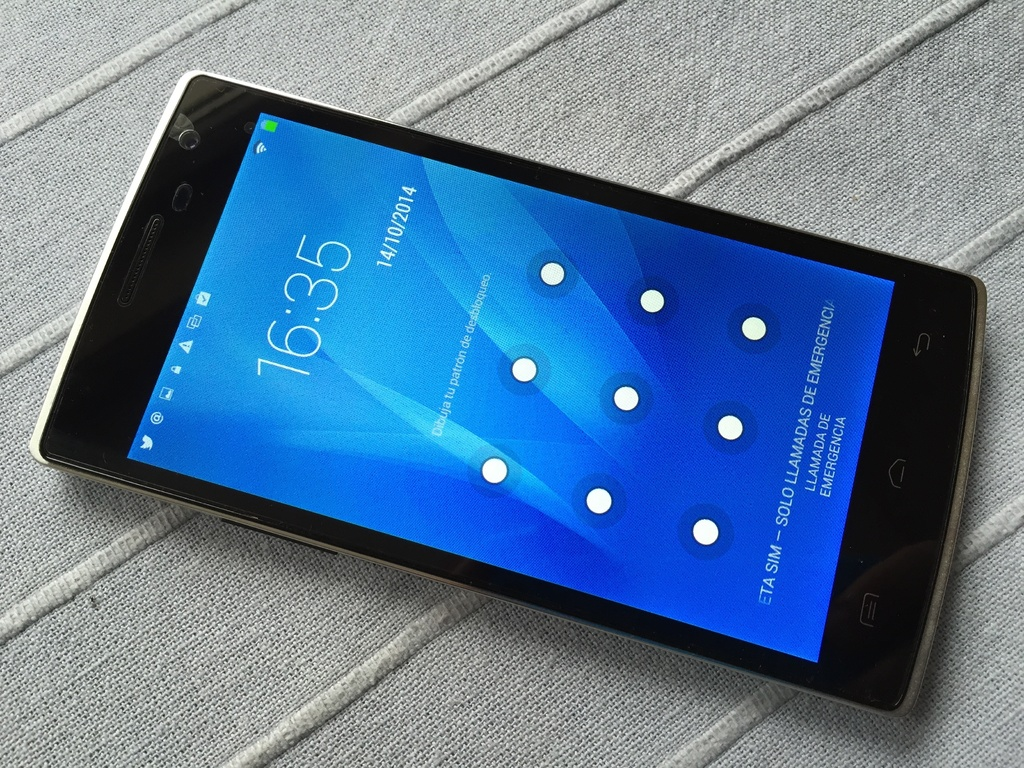Mobile-phone: (35, 65, 986, 718)
